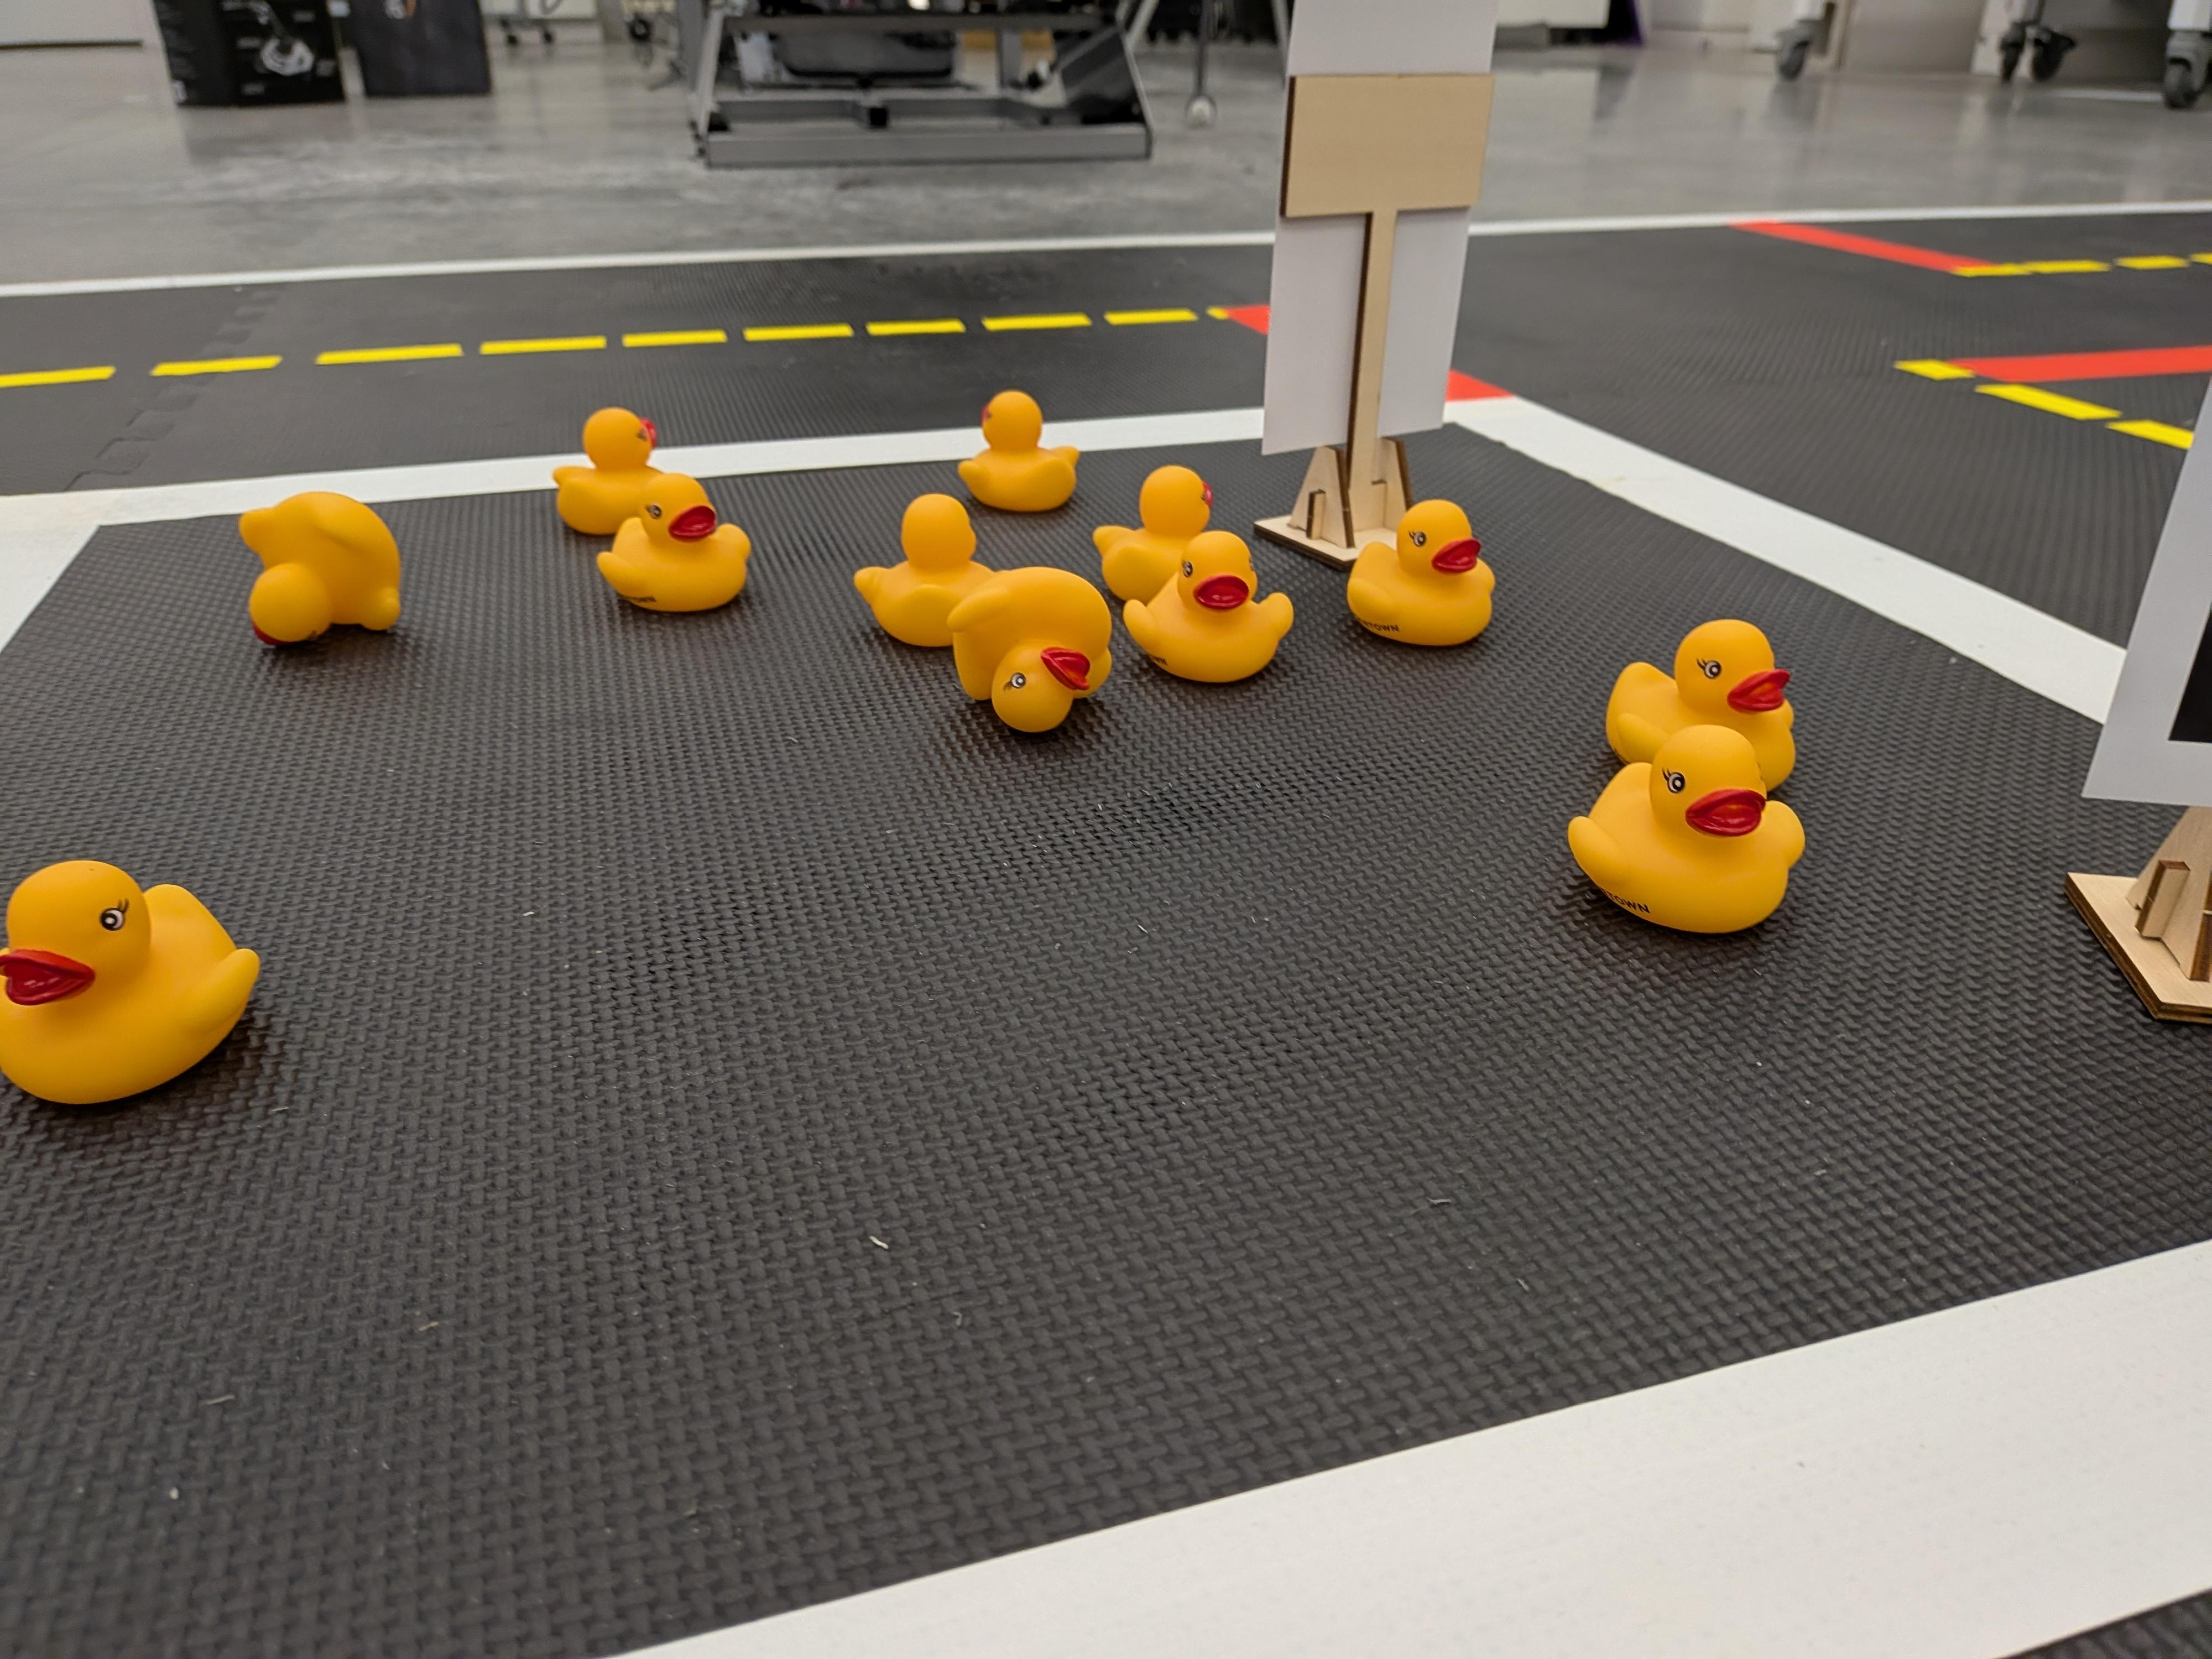peasant: (0, 859, 263, 1108), (1568, 727, 1804, 938), (1609, 617, 1794, 795), (948, 568, 1118, 735), (235, 486, 404, 647), (1123, 532, 1296, 685), (857, 493, 1005, 648), (597, 472, 756, 615), (1096, 464, 1223, 603), (552, 408, 678, 537), (956, 389, 1078, 514)
stopbar: (1226, 301, 1510, 401), (1740, 220, 1994, 277), (1952, 350, 2212, 383)
whiteline: (0, 396, 2212, 732), (608, 1229, 2212, 1659)
yellowline: (0, 307, 1226, 396), (1895, 356, 2212, 450), (1952, 246, 2212, 281)
